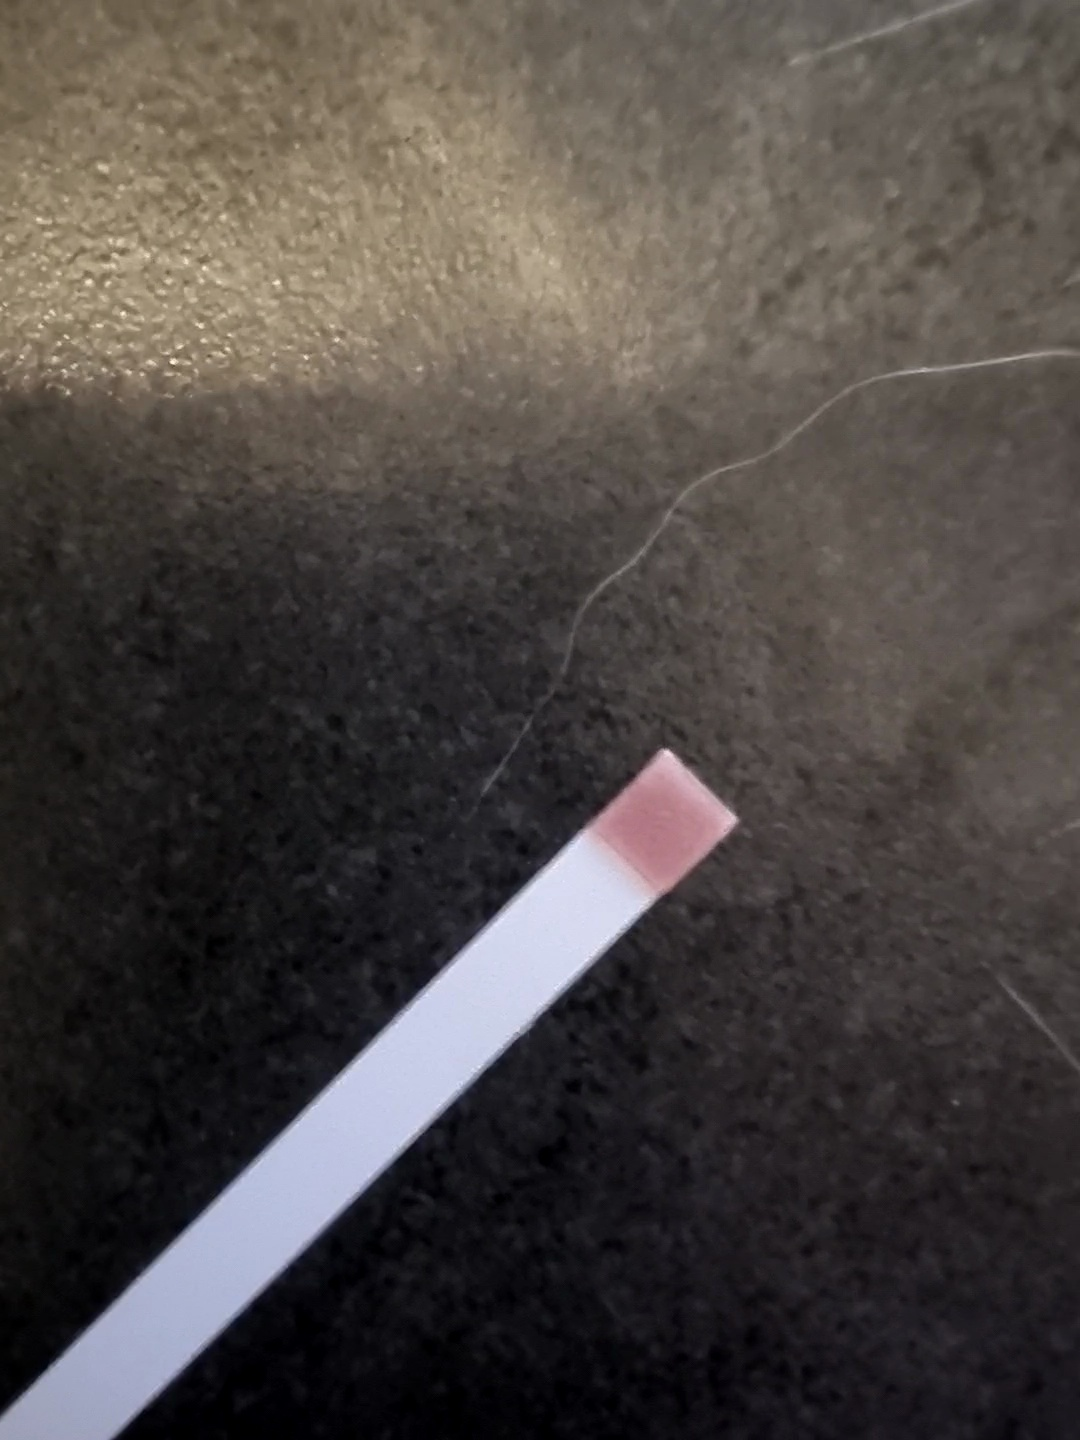keto-tip: (583, 742, 744, 906)
